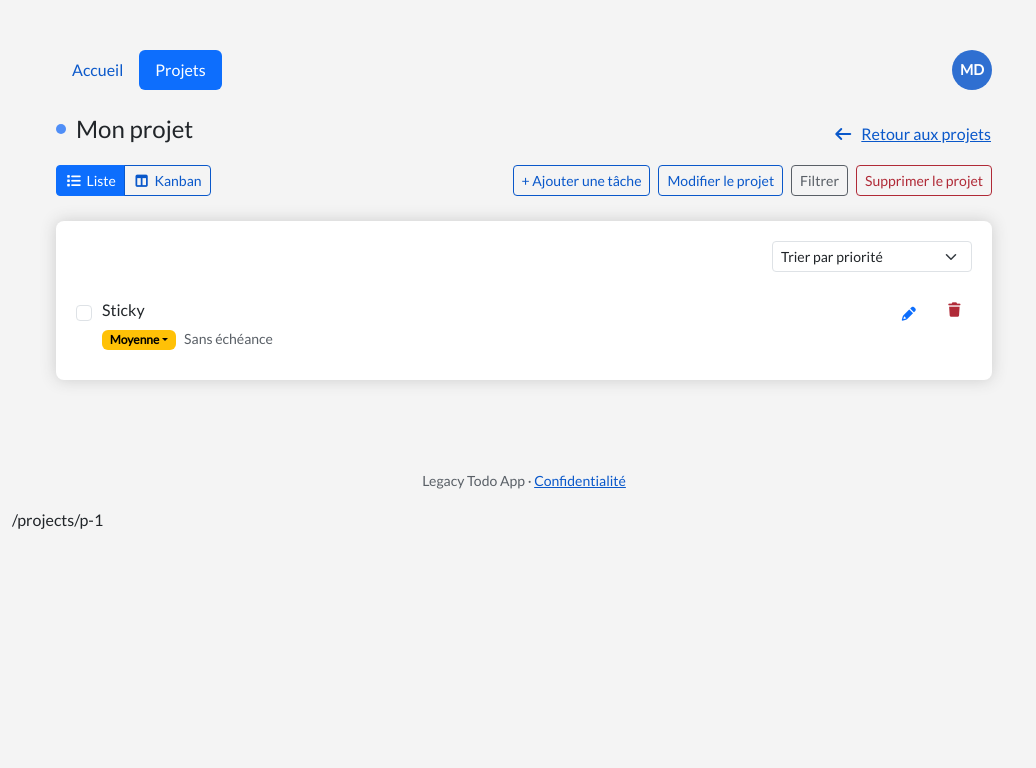
Test: deleting a task › a failed delete keeps the row and reports the error
Expected: the text "Sticky" is shown, [102,300,145,319]
Step 1. Click the button named "Supprimer la tâche" → [954, 310], box [936,294,972,325]
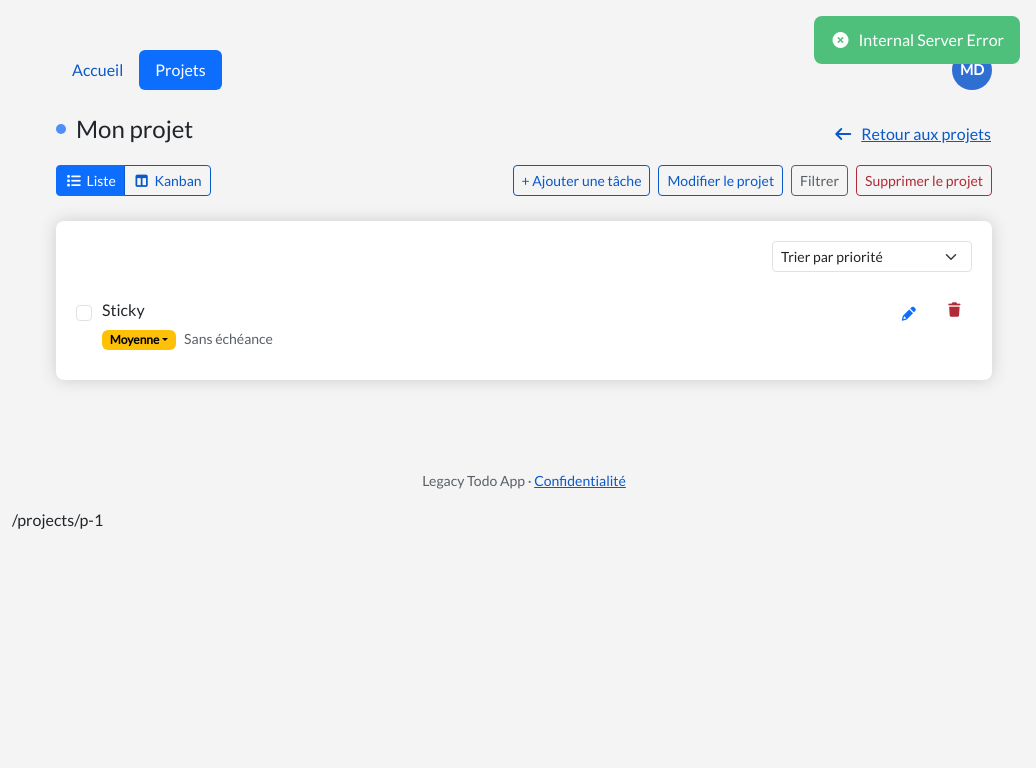
Expected: the text "Sticky" is shown, [102,300,145,319]
Now the text "Internal Server Error" is shown, box [858,30,1004,49]
